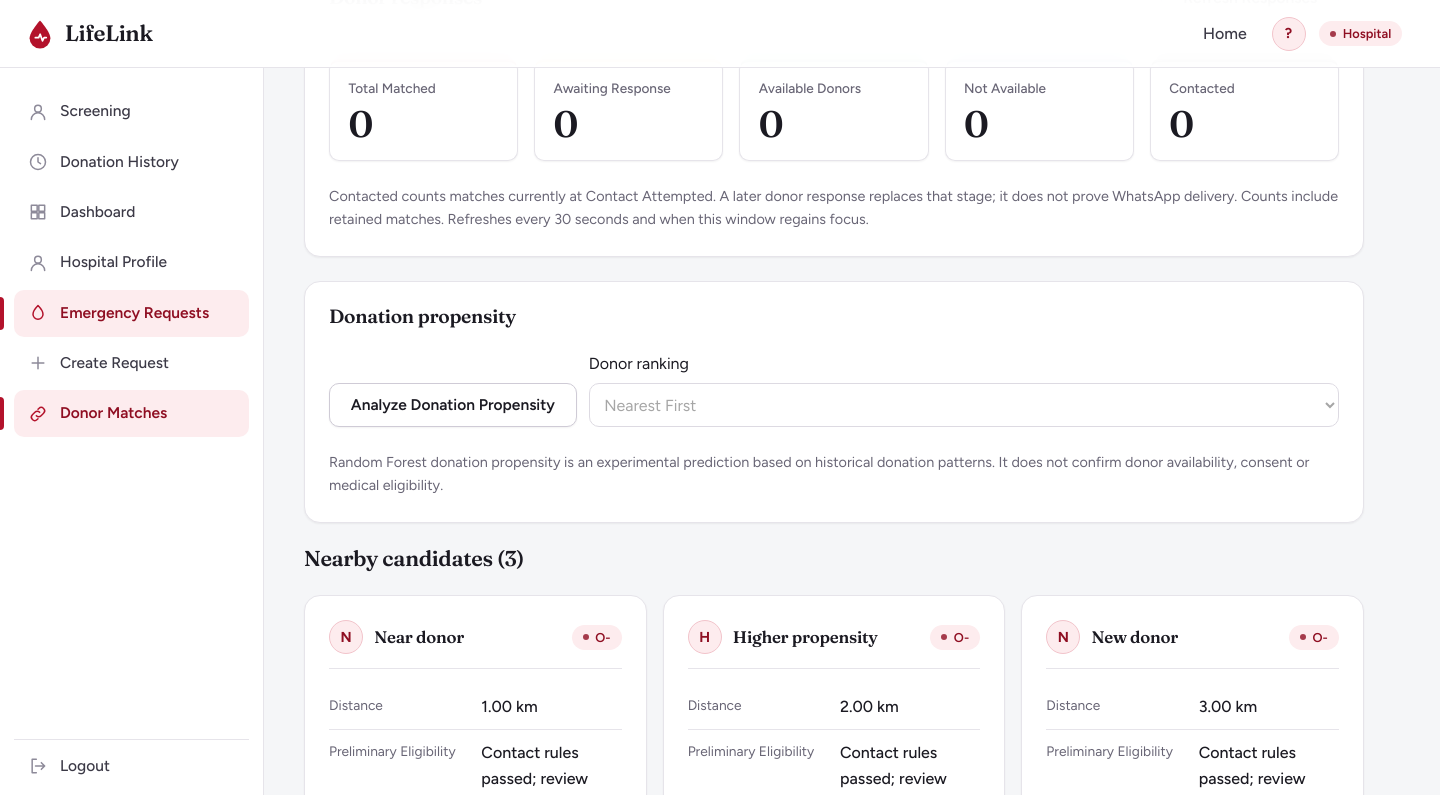
it: zero is a valid scored probability
The image size is (1440, 795).
(page scrolled)
Click the button "Analyze Donation Propensity".
click(453, 405)  # box 329,383 -> 577,427
(page scrolled)
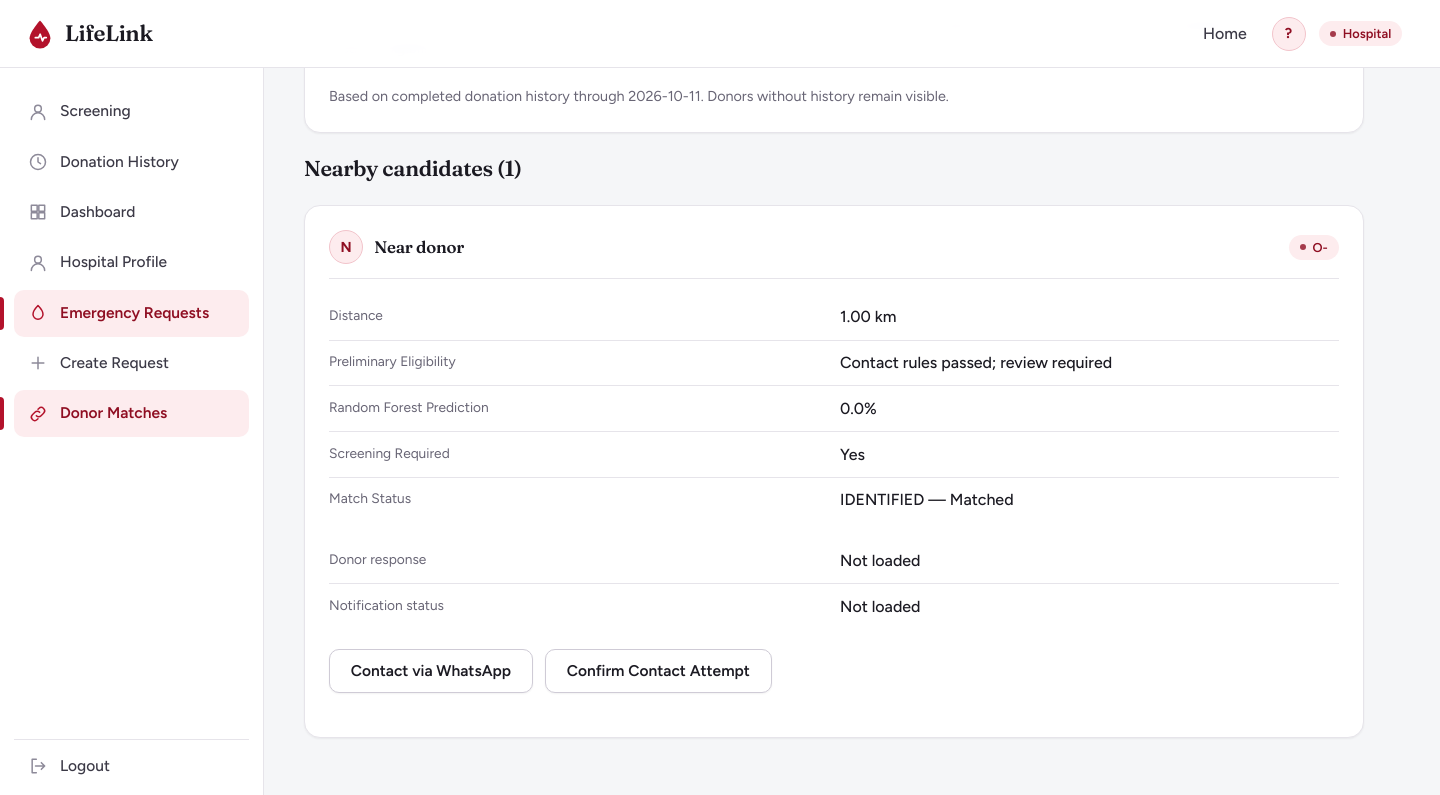
Expected: the text "0.0%" is shown, 840,399 -> 877,418
